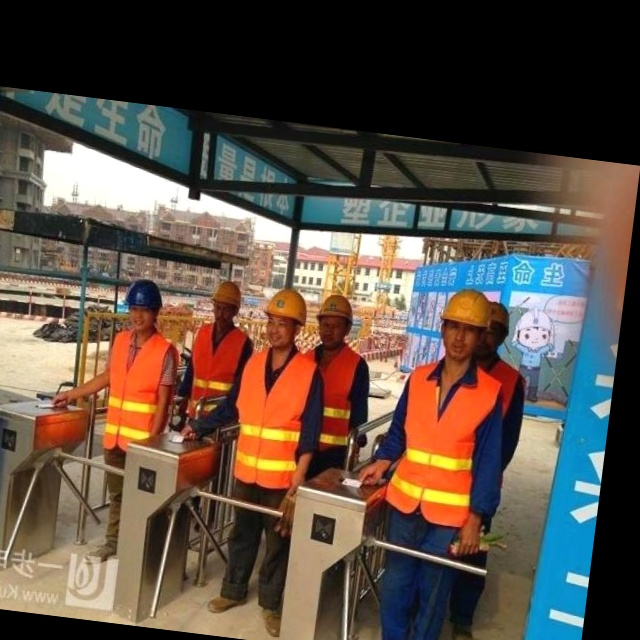Con_Chaleco: (384, 358, 500, 524), (226, 347, 318, 490), (97, 325, 172, 456)
